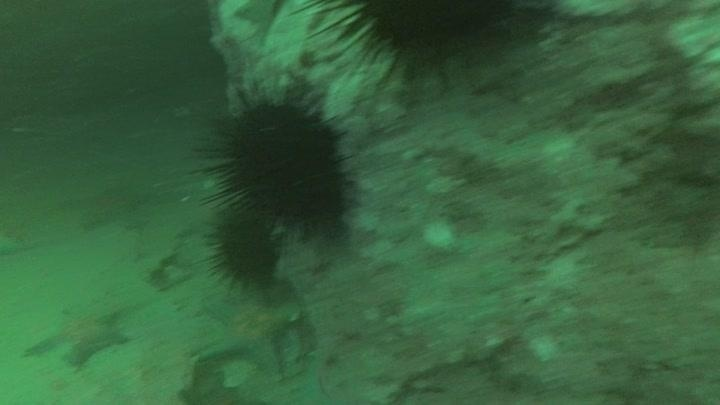echinus: (197, 81, 361, 243), (300, 1, 552, 87), (205, 209, 287, 290)
starfish: (193, 288, 302, 376), (20, 297, 135, 371)
